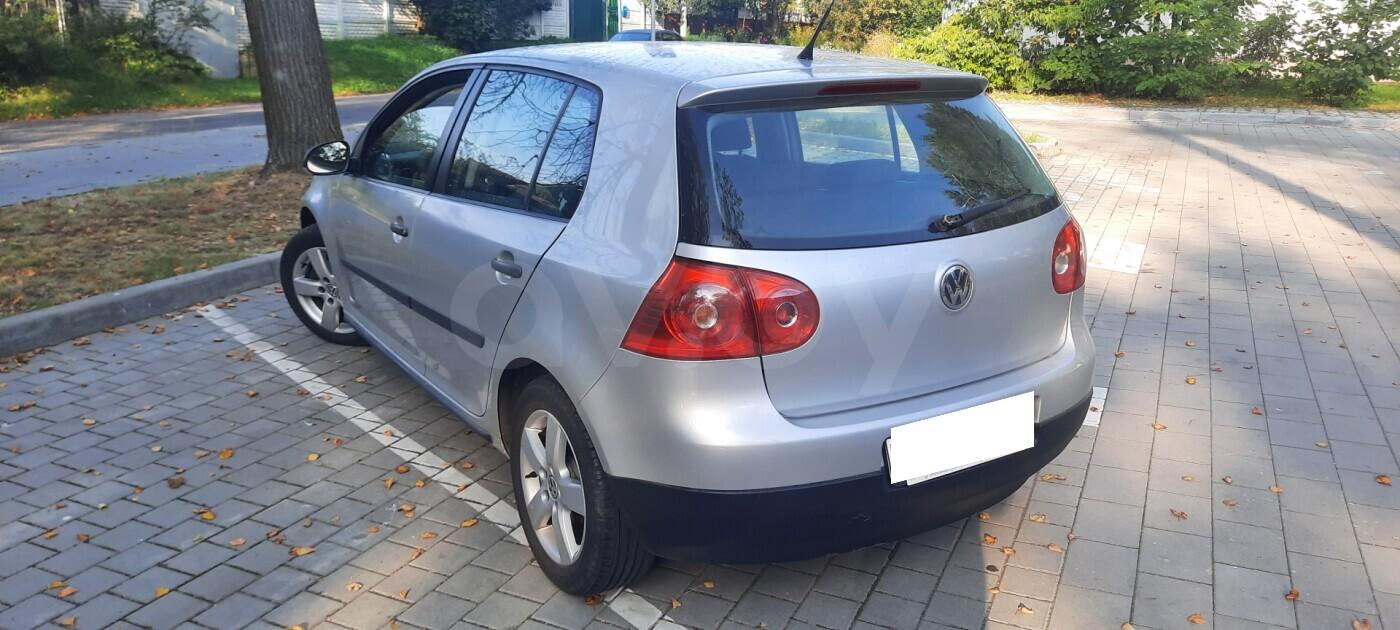Golf_2003-2009: (272, 42, 1104, 597)
